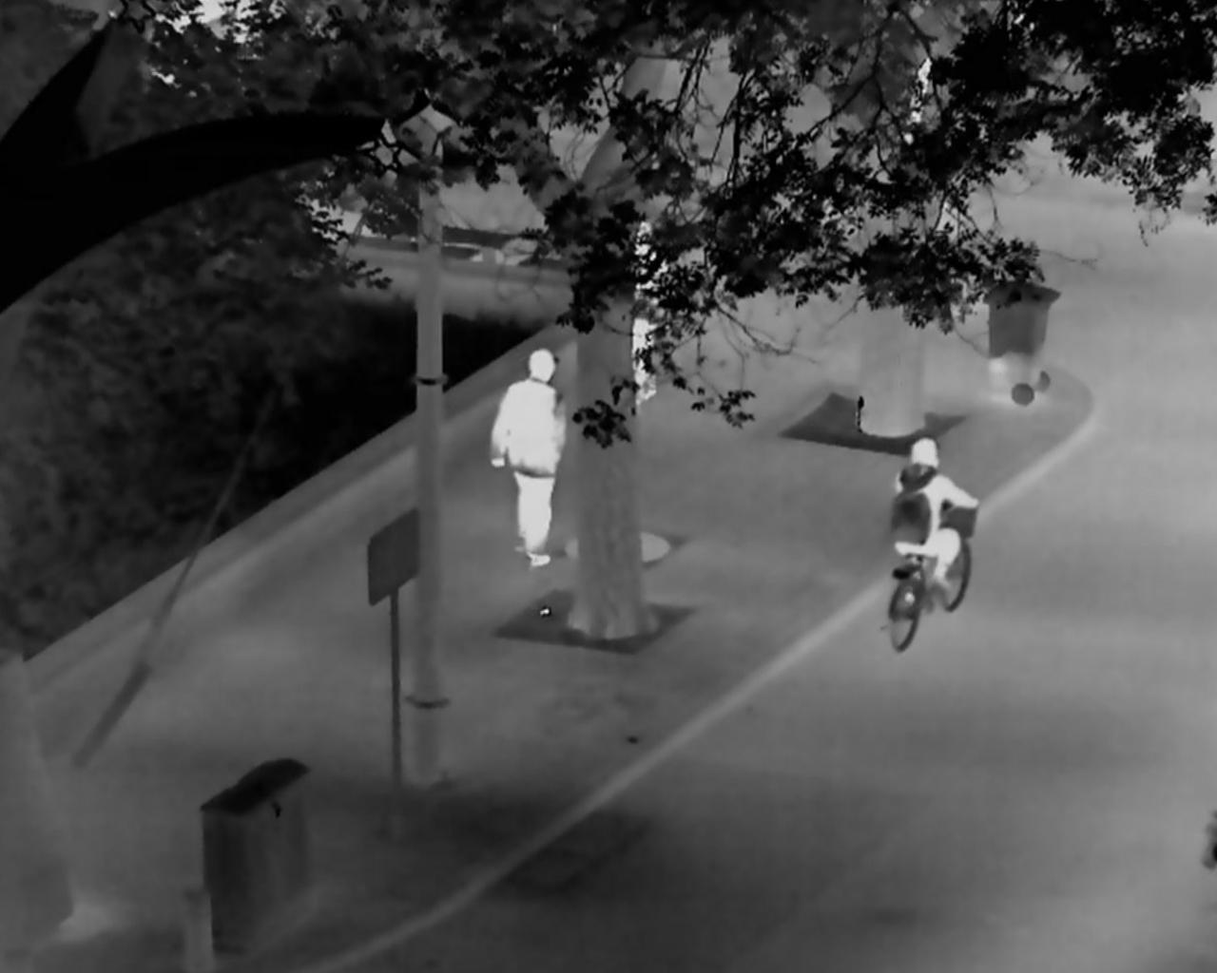person: (489, 349, 565, 566), (890, 437, 978, 587), (629, 217, 666, 409)
